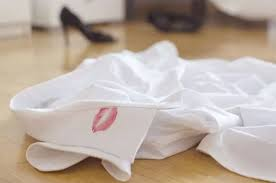kimchi: (89, 103, 122, 135)
